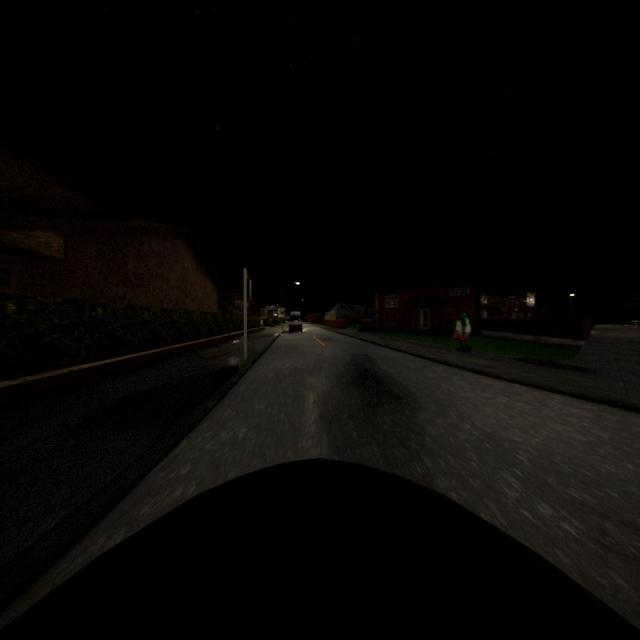Pedestrian: (453, 312, 471, 351)
Vehicle: (0, 454, 635, 640), (289, 311, 302, 334), (260, 317, 280, 326)
traffic_light: (247, 279, 252, 303)
